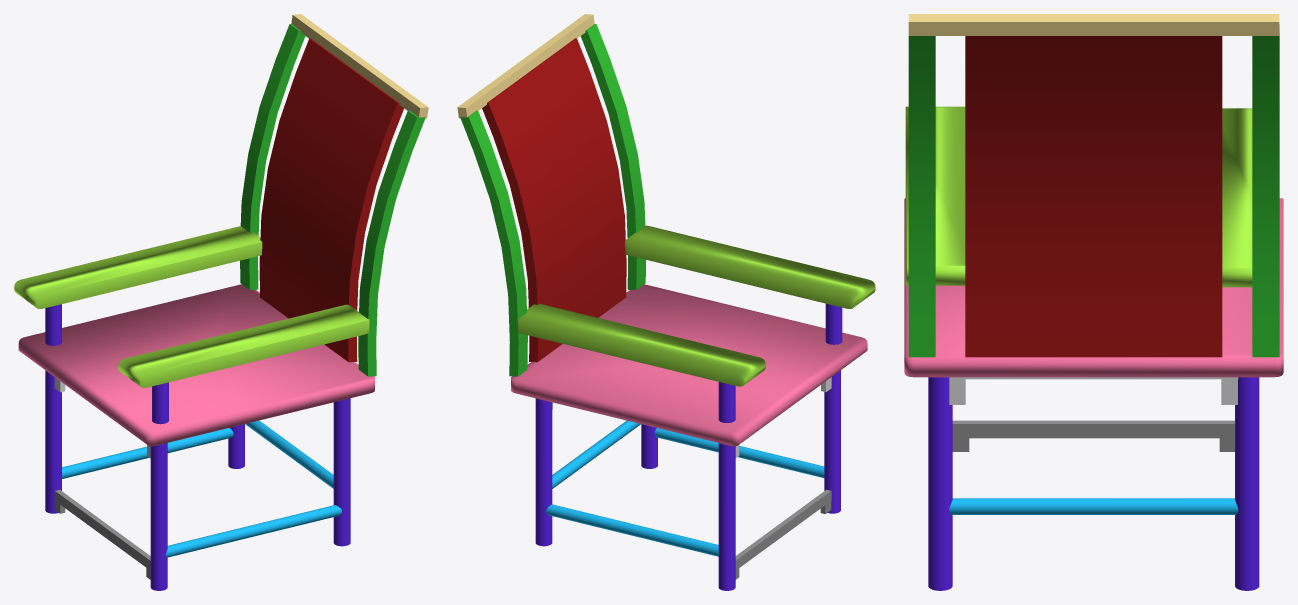
The picture shows the model from 3 angles, left to right: view 1: azimuth 30°, elevation 25°; view 2: azimuth 150°, elevation 25°; view 3: azimuth 270°, elevation 25°; orthographic projection. The views are drawn at different scales.
Parts seen in each view (by area): view 1: Box018, Box007, Box023, Box024, Box026, Box025, Cylinder004, Cylinder002, Box027, Cylinder006, Cylinder003, Cylinder007 (+5 smaller); view 2: Box018, Box007, Box023, Box024, Box025, Box026, Cylinder003, Cylinder001, Box027, Cylinder007, Cylinder004, Cylinder006 (+5 smaller); view 3: Box018, Box007, Box025, Box026, Box027, Box023, Box024, Box008, Cylinder001, Cylinder002, Cylinder005, Box015.
Boxes of the visible parts, bbox=[...] form: Box018: bbox=[259, 38, 403, 362]; Box007: bbox=[18, 284, 374, 446]; Box023: bbox=[118, 304, 369, 387]; Box024: bbox=[14, 226, 262, 308]; Box026: bbox=[358, 110, 425, 376]; Box025: bbox=[240, 24, 305, 289]; Cylinder004: bbox=[150, 443, 167, 590]; Cylinder002: bbox=[333, 398, 350, 546]; Box027: bbox=[291, 14, 428, 118]; Cylinder006: bbox=[165, 505, 341, 557]; Cylinder003: bbox=[45, 370, 61, 513]; Cylinder007: bbox=[62, 428, 233, 478]; Box018: bbox=[482, 38, 626, 362]; Box007: bbox=[511, 284, 867, 446]; Box023: bbox=[625, 225, 875, 308]; Box024: bbox=[517, 303, 765, 386]; Box025: bbox=[460, 110, 527, 376]; Box026: bbox=[580, 24, 645, 289]; Cylinder003: bbox=[718, 443, 735, 590]; Cylinder001: bbox=[535, 398, 552, 546]; Box027: bbox=[457, 14, 594, 118]; Cylinder007: bbox=[546, 504, 718, 556]; Cylinder004: bbox=[824, 370, 840, 513]; Cylinder006: bbox=[654, 428, 824, 477]; Box018: bbox=[965, 36, 1222, 357]; Box007: bbox=[904, 198, 1283, 377]; Box025: bbox=[1252, 24, 1279, 357]; Box026: bbox=[908, 36, 935, 357]; Box027: bbox=[908, 14, 1279, 35]; Box023: bbox=[905, 106, 965, 285]; Box024: bbox=[1222, 108, 1252, 287]; Box008: bbox=[952, 420, 1234, 438]; Cylinder001: bbox=[1235, 377, 1259, 590]; Cylinder002: bbox=[928, 377, 952, 590]; Cylinder005: bbox=[949, 498, 1238, 514]; Box015: bbox=[949, 377, 1238, 379].
Size of the model in its own units: 33.91 by 47.63 by 26.44.
